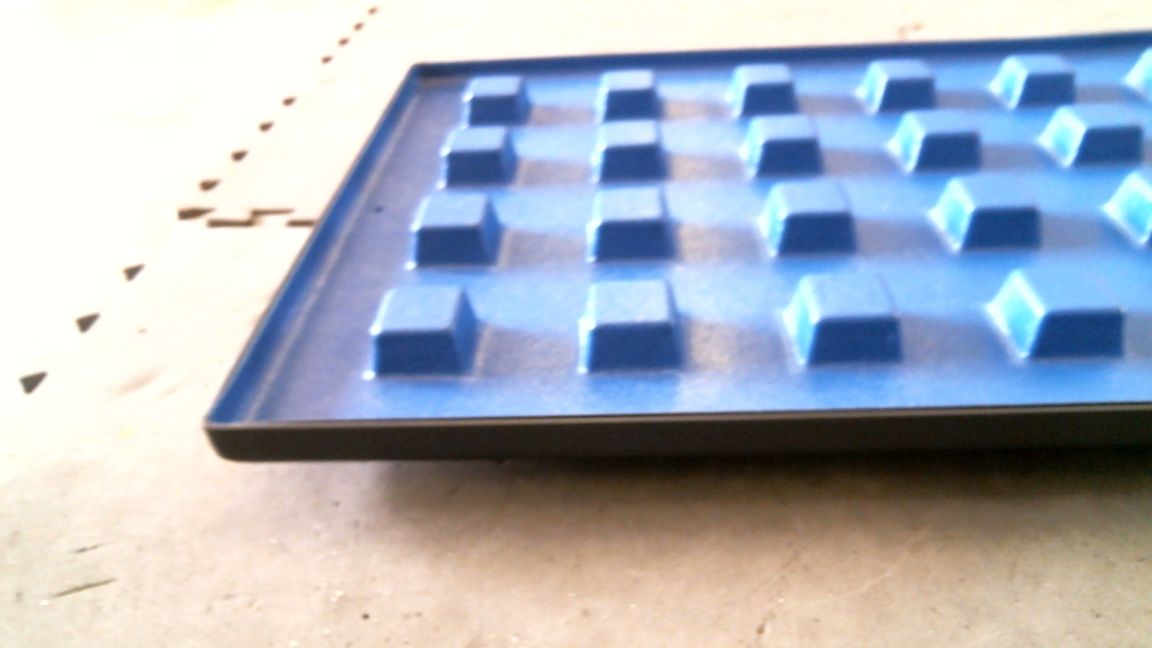blue_foundation: (201, 28, 1152, 478)
